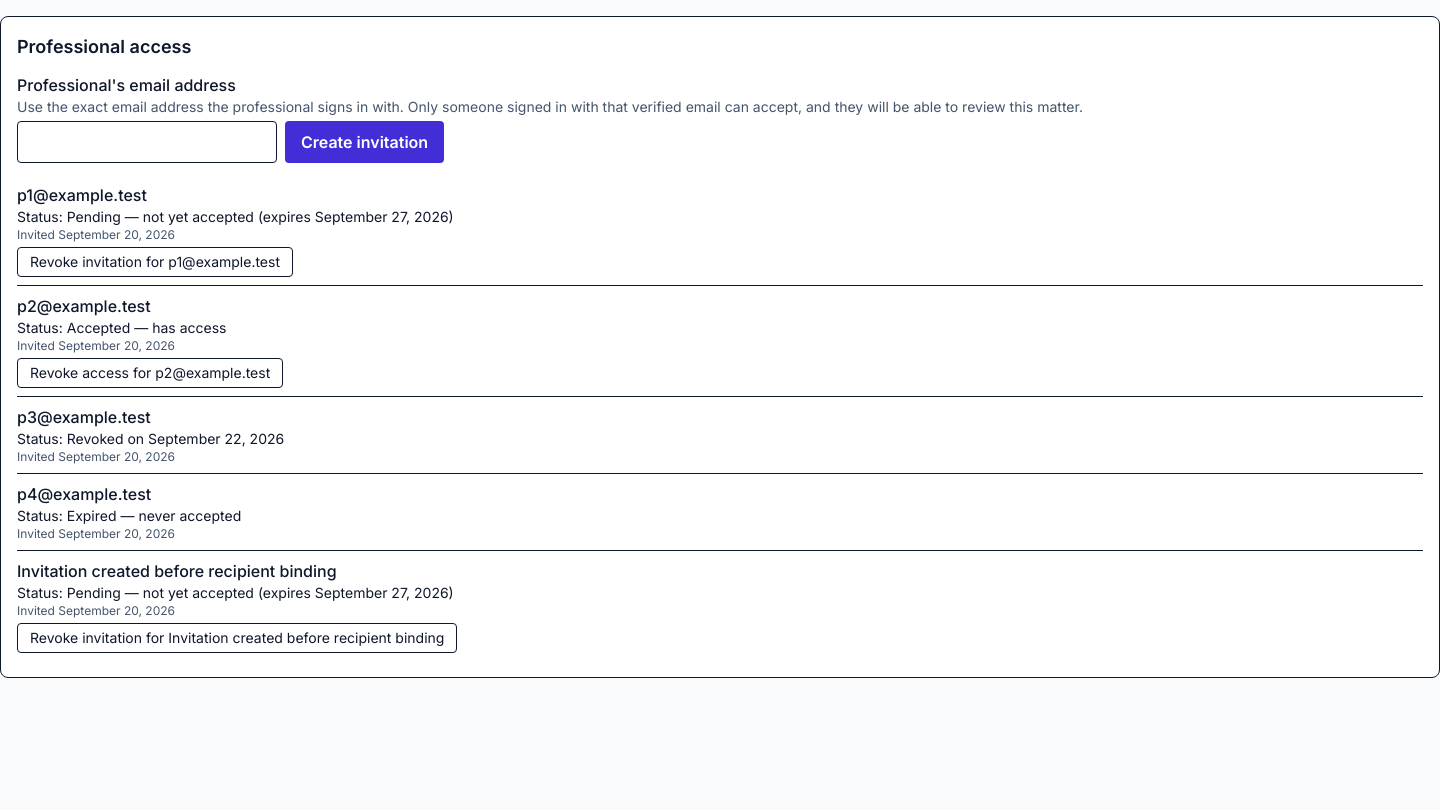
Test: Stage 10 slice 8: ProfessionalAccessPanel › an unconfirmed revocation says access may not have been removed
Click the button "Revoke access for p2@example.test" at (150, 373), box [17,358,283,388]
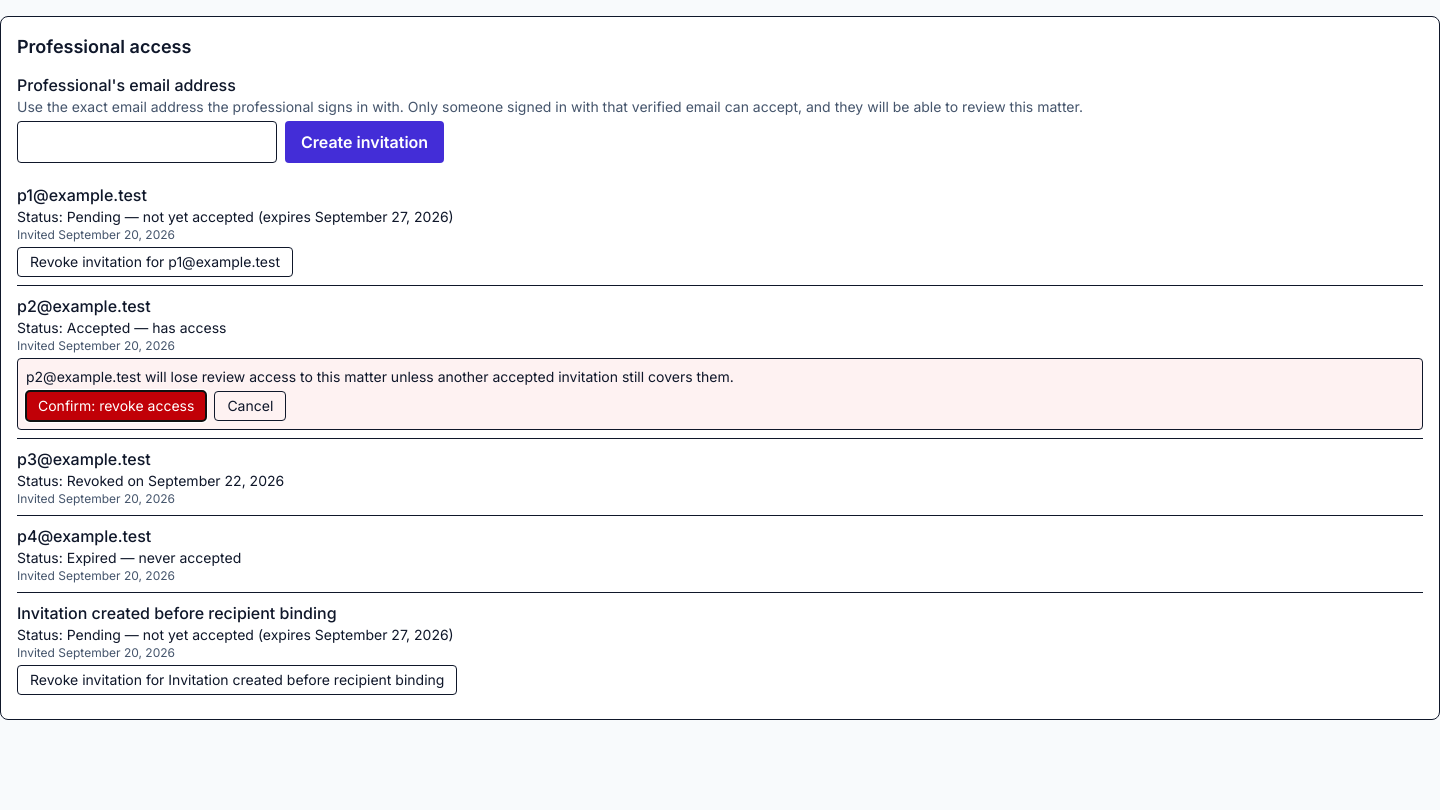
Click the button "Confirm: revoke access" at (116, 406), box [26,391,206,421]
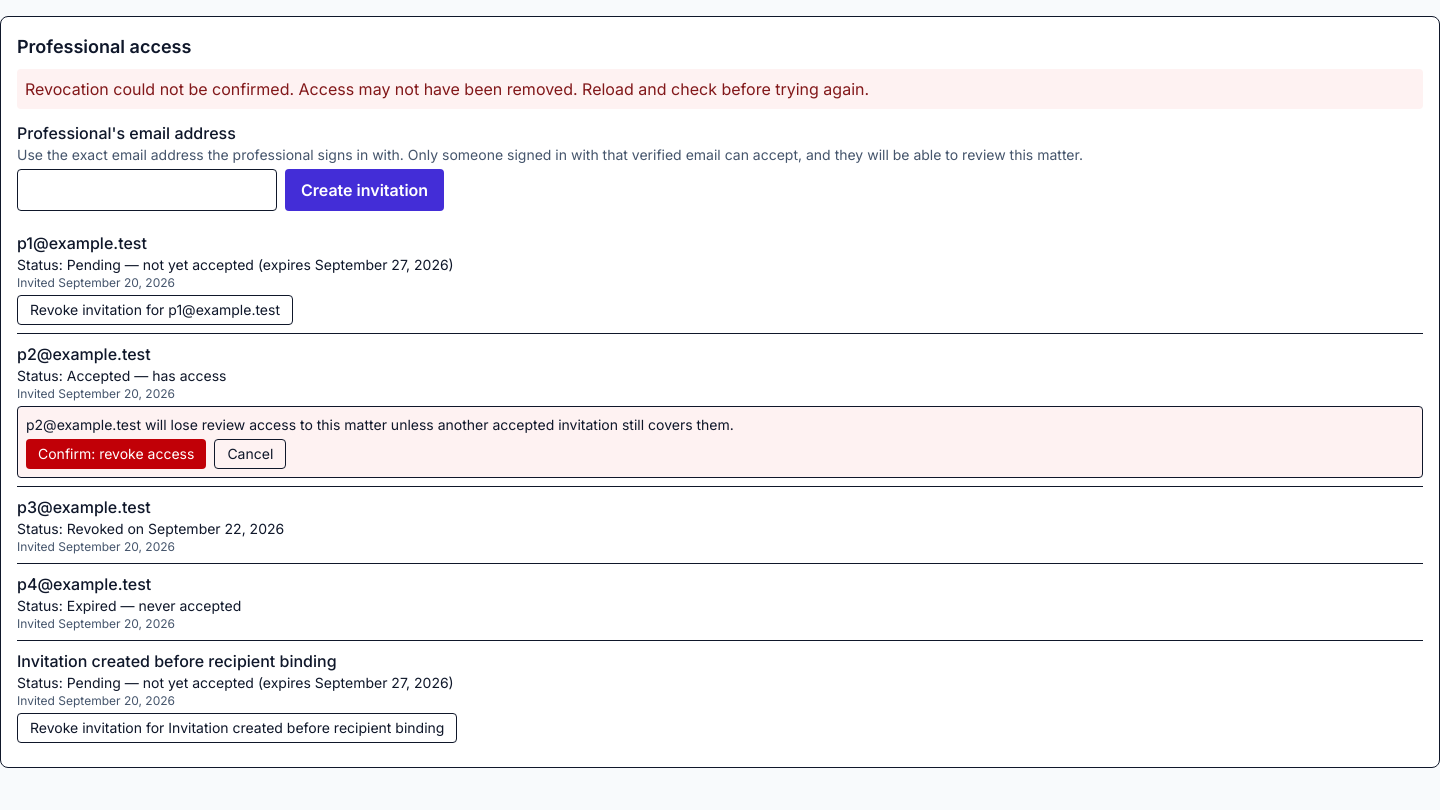
Now the message shows "Access may not have been removed", box [25,79,869,99]
